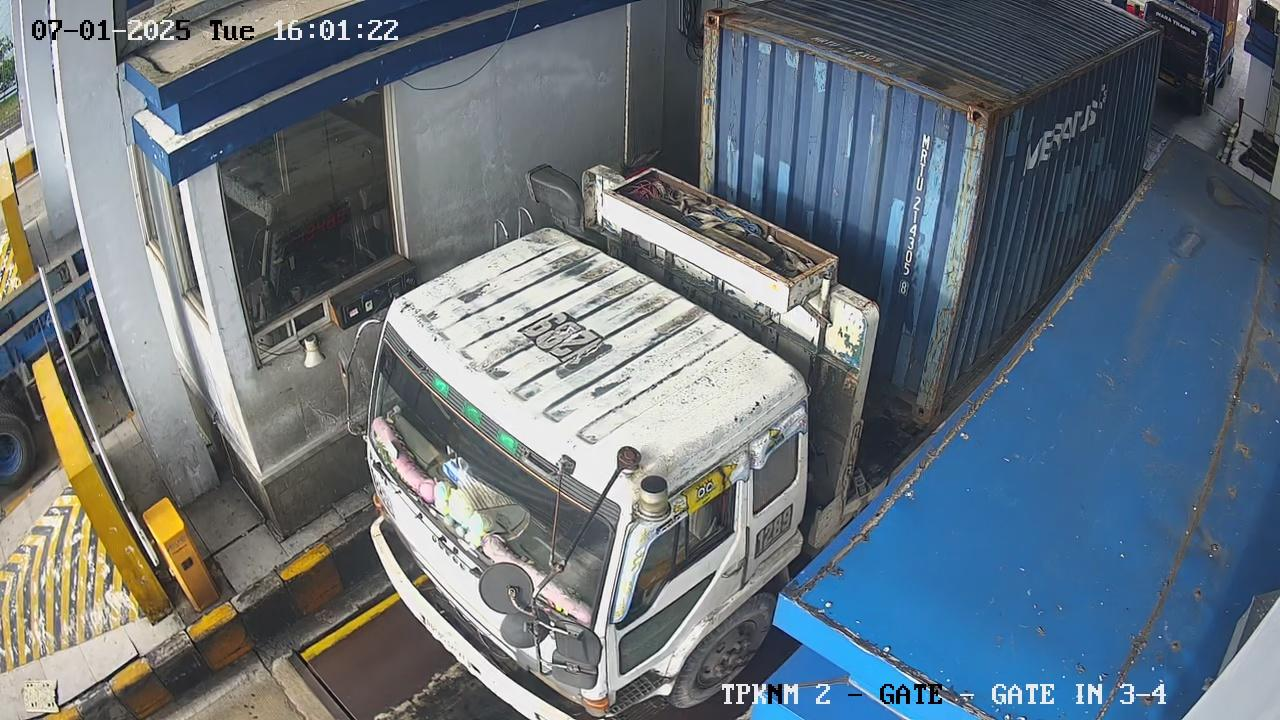Container_ID_Vertikal: (893, 133, 936, 296)
